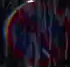No Stopping: (3, 0, 68, 66)
